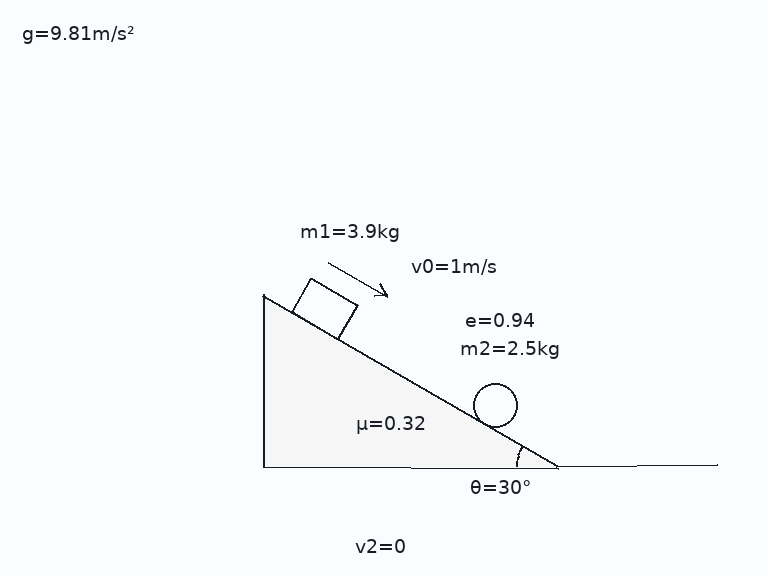ball: (471, 381, 519, 429)
block: (289, 277, 359, 341)
ramp: (260, 293, 559, 468)
